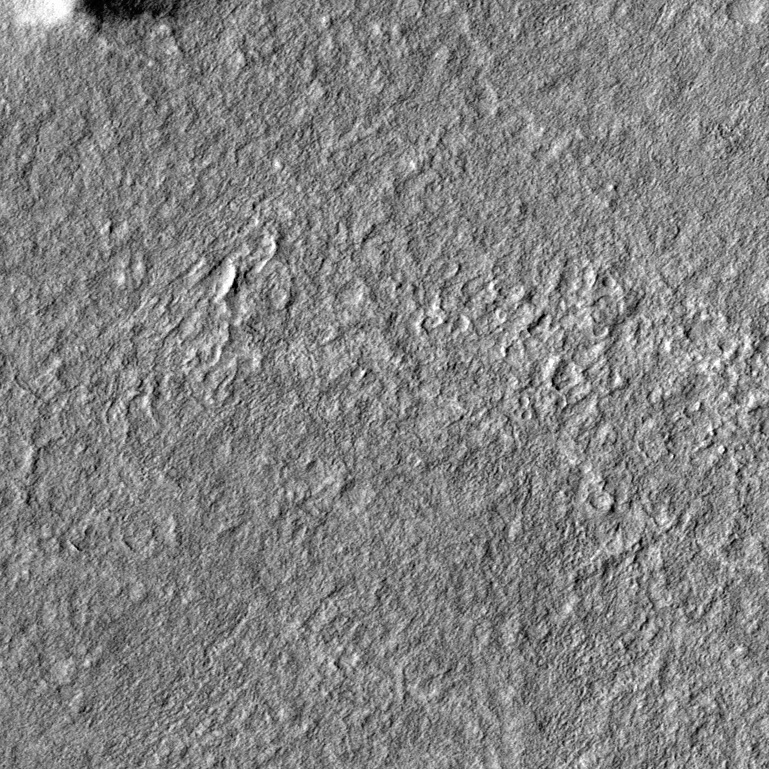dust_devil: (11, 1, 186, 32)
